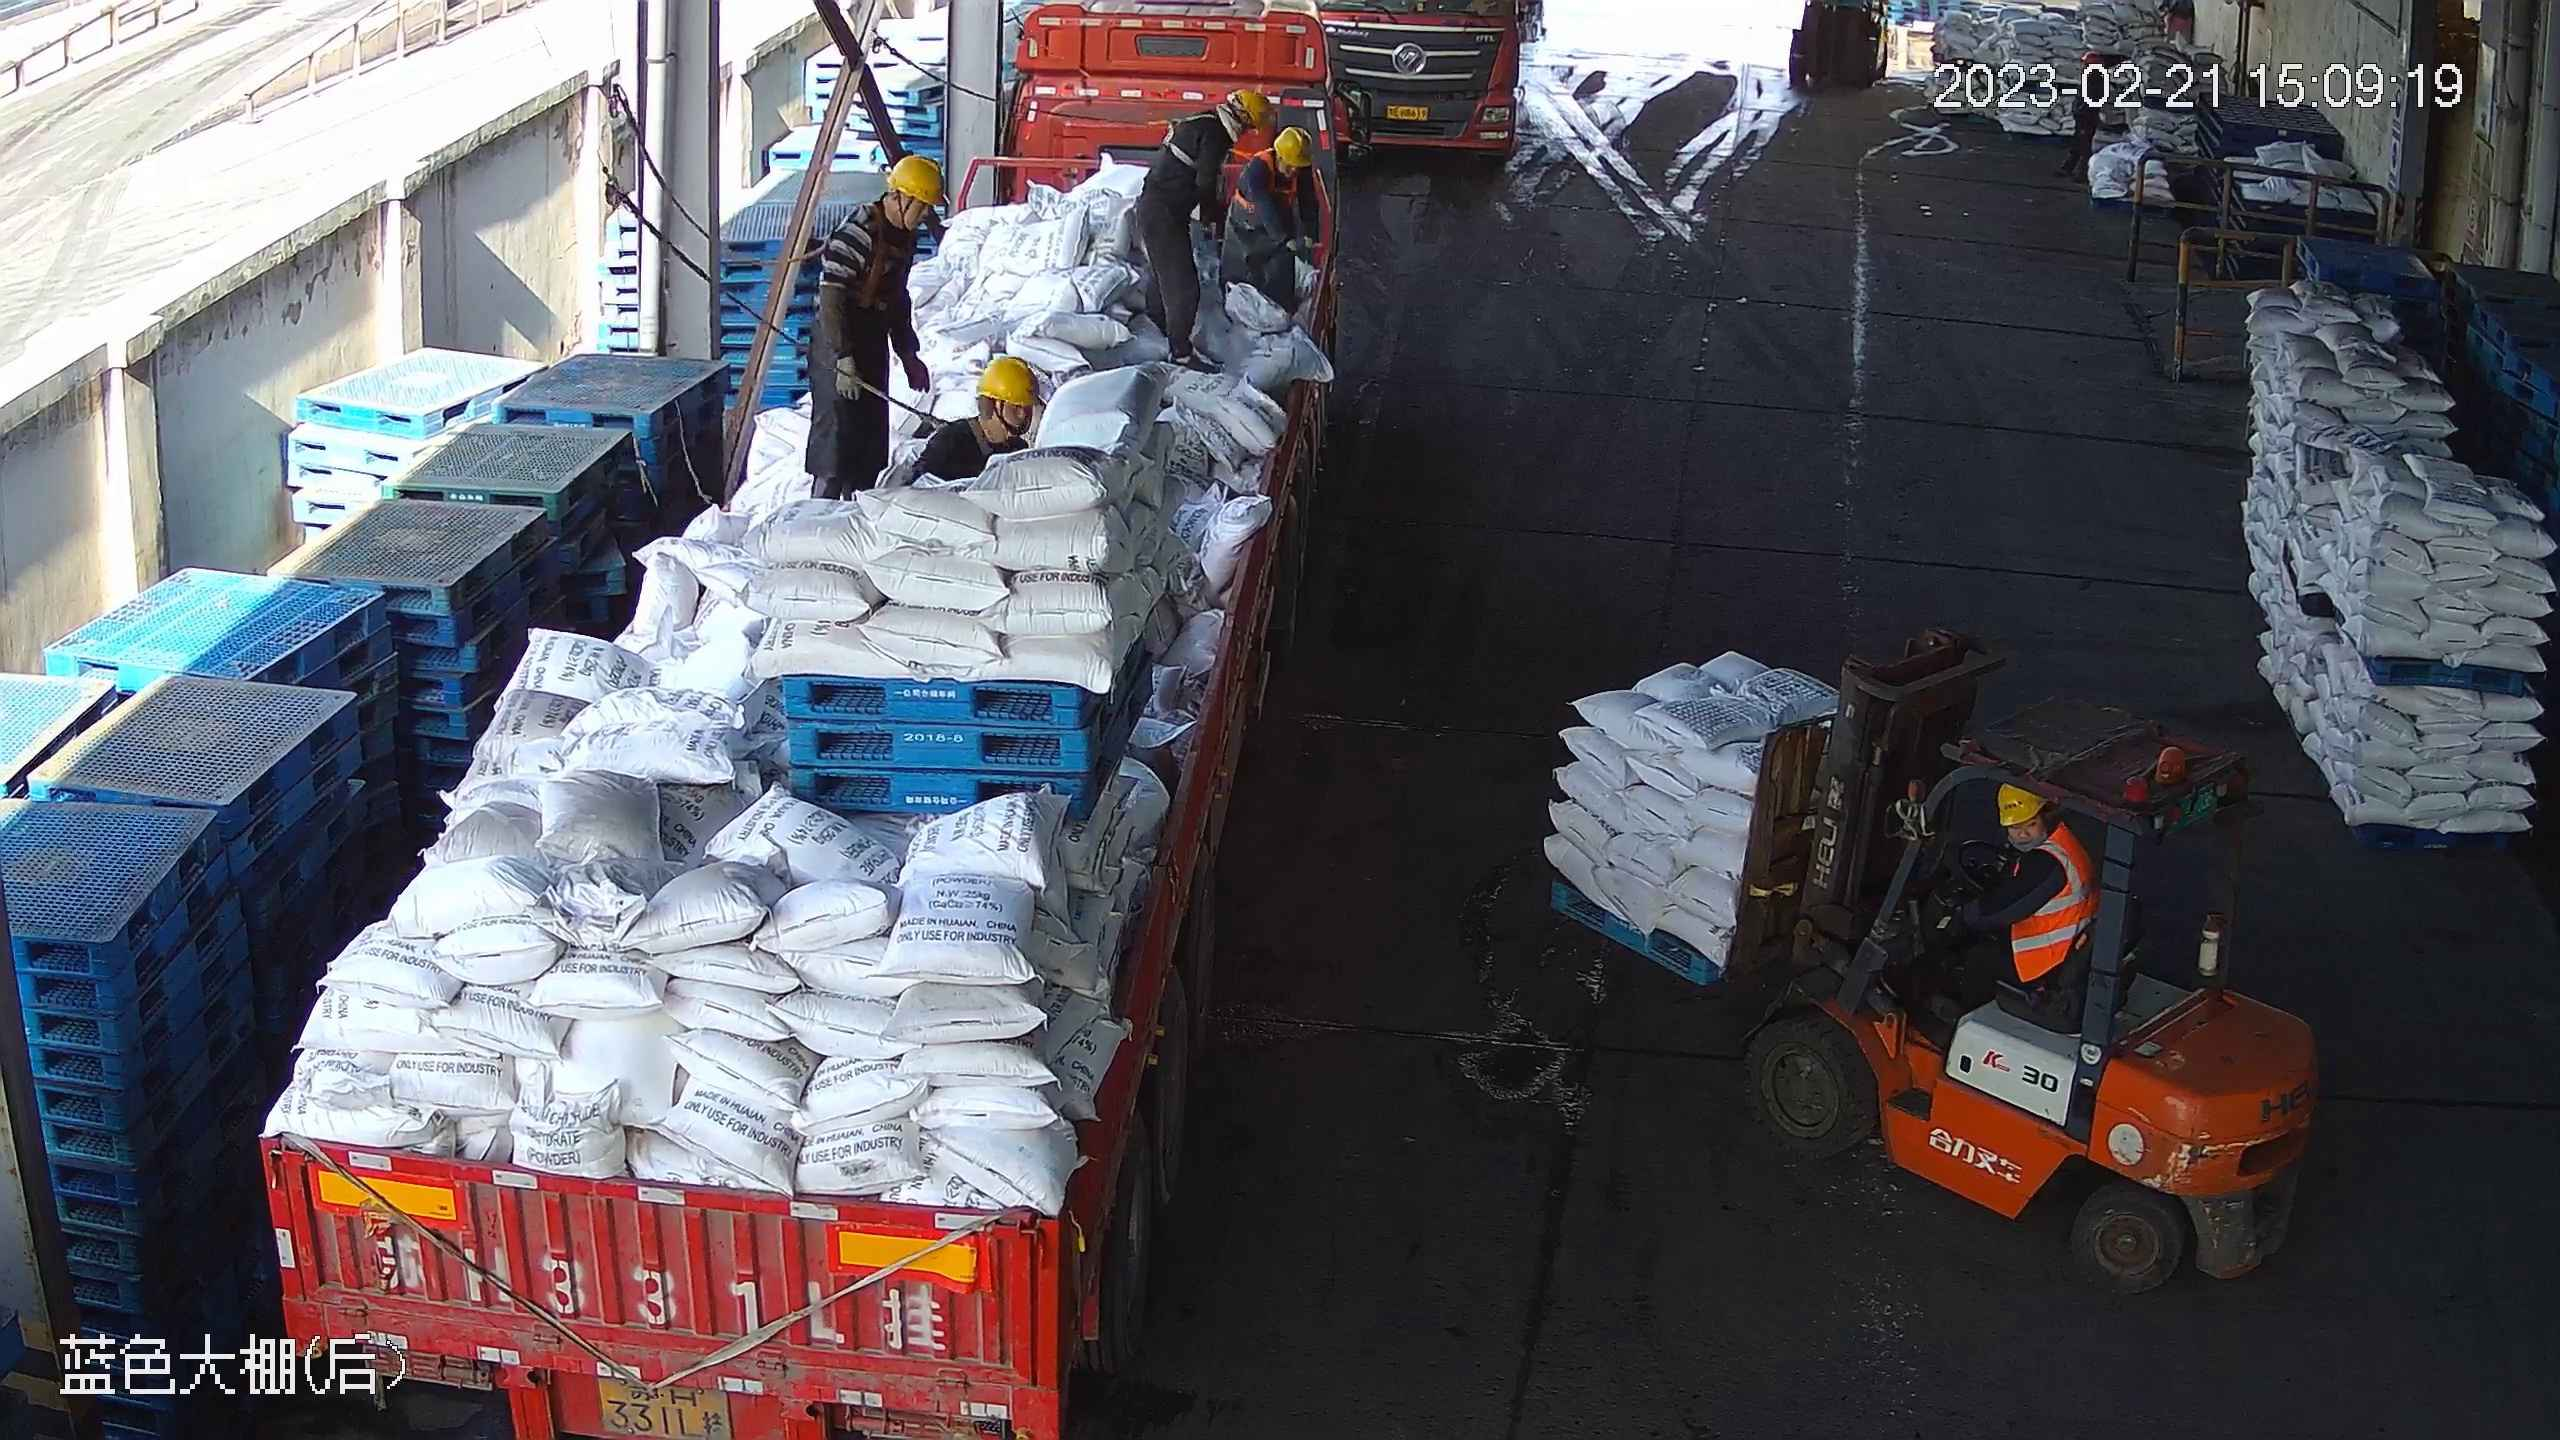belt: (838, 207, 914, 305), (1236, 148, 1306, 213), (1164, 112, 1223, 168)
head: (1967, 779, 2096, 923), (818, 152, 945, 289), (913, 355, 1040, 485), (1142, 88, 1270, 187), (1231, 130, 1322, 218)
helmet: (977, 356, 1040, 409), (887, 154, 947, 207), (1997, 782, 2048, 828), (1228, 88, 1271, 127), (1276, 127, 1315, 166)
people: (801, 154, 946, 503), (1135, 87, 1270, 380), (1947, 771, 2103, 1013), (1222, 126, 1324, 319)
truck: (244, 10, 1342, 1440), (1344, 1, 1544, 169)
